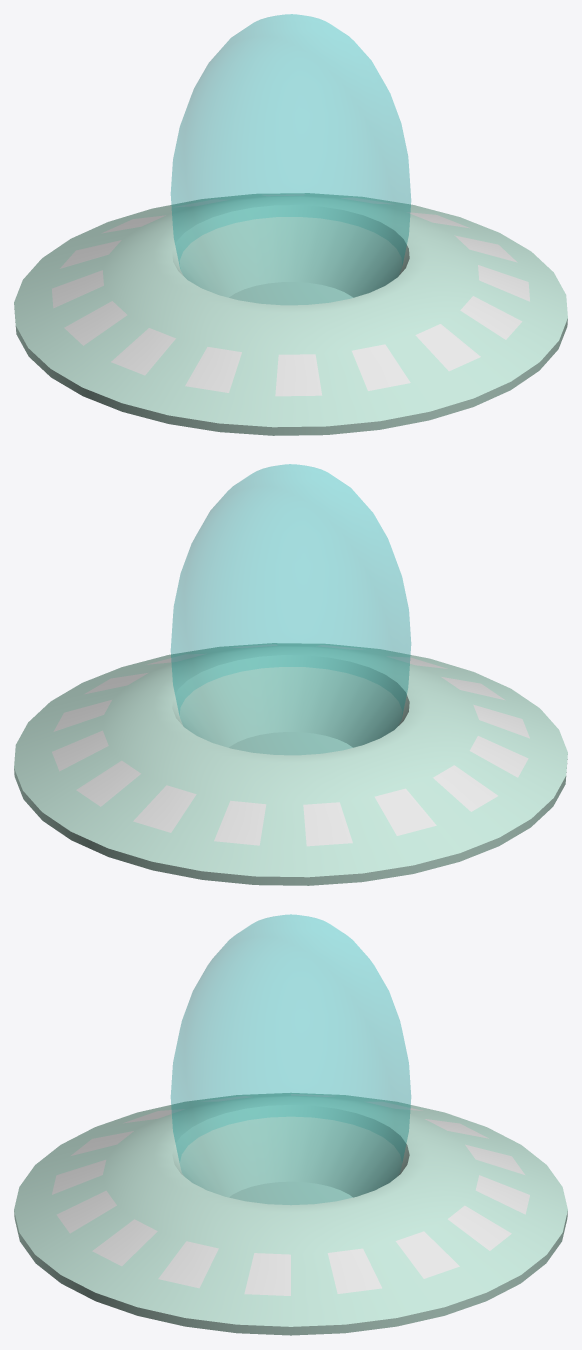
The model's file is Flying Saucer 01.fbx.
The picture shows the model from 3 angles, top to bottom: view 1: azimuth 30°, elevation 25°; view 2: azimuth 150°, elevation 25°; view 3: azimuth 270°, elevation 25°; orthographic projection.
Visible parts, largest first — view 1: Flying Sacuer; view 2: Flying Sacuer; view 3: Flying Sacuer.
Boxes of the visible parts, left/top/right/bottom form: Flying Sacuer: left=14, top=14, right=567, bottom=435; Flying Sacuer: left=14, top=464, right=567, bottom=885; Flying Sacuer: left=14, top=914, right=567, bottom=1335.
Bounding box in the file's own units: 309 × 218 × 309.
